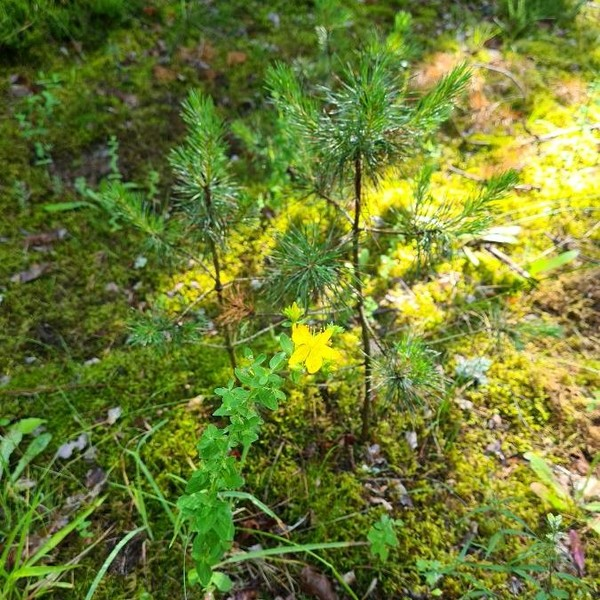obstacle: (25, 26, 415, 534), (319, 46, 405, 462), (162, 359, 296, 576)
